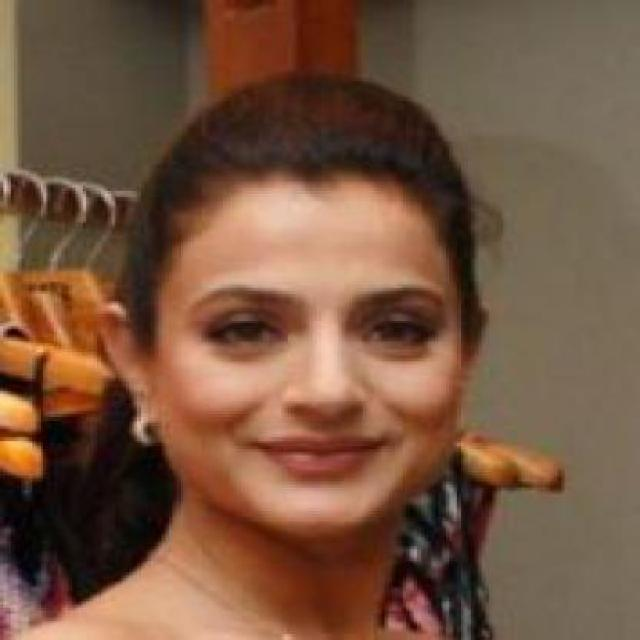closed-mouth: (248, 428, 384, 482)
